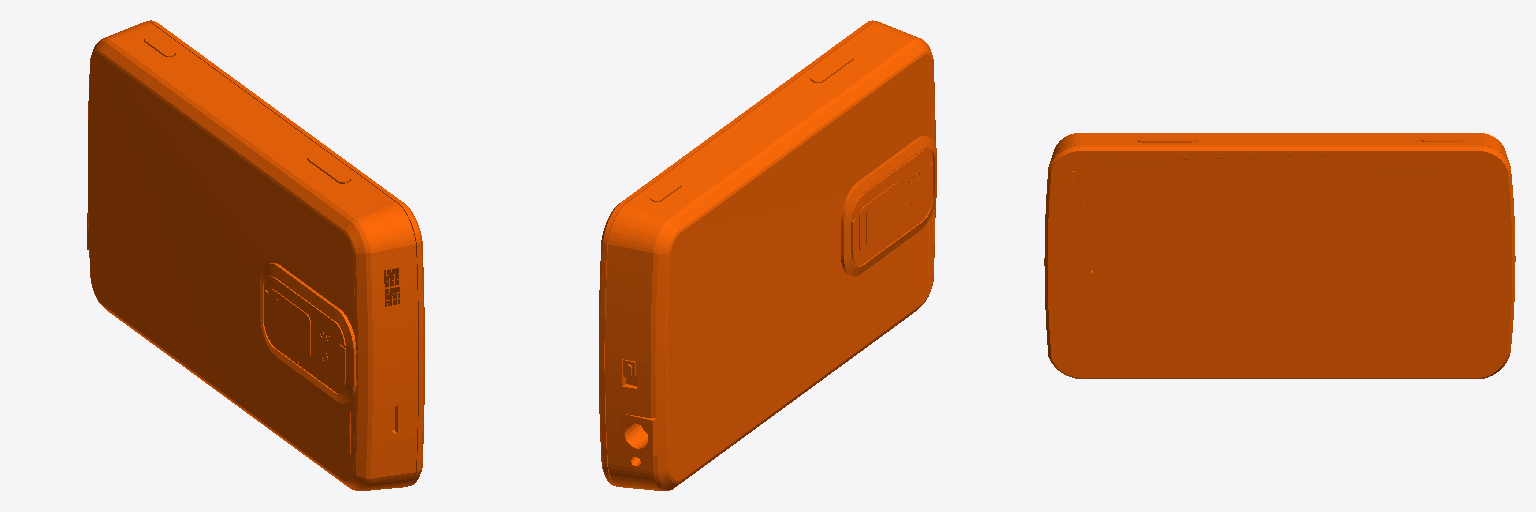
URDF robot description (CellPhone_4c992058eca403d9980a39e0273687b1):
<?xml version="1.0" ?>
<robot name="CellPhone_4c992058eca403d9980a39e0273687b1">
   <material name="obj_color">
      <color rgba="1.0 0.423529411765 0.0392156862745 1.0"/>
   </material>
   <link name="top">
      <inertial>
         <origin rpy="0.0006629651445983659 0.002201299569689325 0.002789789183558277" xyz="0.0009425077526137974 0.003413125218872615 -0.0005566847323891602"/>
         <mass value="0.6143887495059365"/>
         <inertia ixx="0.002789777091049942" ixy="-5.040410887413152e-06" ixz="-2.913721943669617e-07" iyy="0.0006629779942535278" iyz="1.180079158343633e-06" izz="0.002201298812542498"/>
      </inertial>
      <visual>
         <origin rpy="0 0 0" xyz="0 0 0"/>
         <geometry>
            <mesh filename="top_watertight_tiny.stl" scale="1 1 1"/>
         </geometry>
         <material name="obj_color"/>
      </visual>
      <collision>
         <origin rpy="0 0 0" xyz="0 0 0"/>
         <geometry>
            <mesh filename="top_watertight_tiny.obj" scale="1 1 1"/>
         </geometry>
      </collision>
   </link>
   <link name="bottom">
      <inertial>
         <origin rpy="1.633333333199431e-08 1.633333333199431e-08 1.633333333362855e-08" xyz="0.3464080000000008 0.3464080000000008 0.3464080000000008"/>
         <mass value="0.0009800000000000017"/>
         <inertia ixx="1.633333333253906e-08" ixy="5.447480642029219e-19" ixz="5.447480642029219e-19" iyy="1.633333333253906e-08" iyz="5.447480642029219e-19" izz="1.633333333253906e-08"/>
      </inertial>
      <visual>
         <origin rpy="0 0 0" xyz="0 0 0"/>
         <geometry>
            <mesh filename="bottom_watertight_tiny.stl" scale="1 1 1"/>
         </geometry>
         <material name="obj_color"/>
      </visual>
   </link>
   <link name="world"/>
   <joint name="world_to_base" type="fixed">
      <origin xyz="0 0 0"/>
      <axis xyz="0 0 0"/>
      <parent link="world"/>
      <child link="bottom"/>
   </joint>
   <joint name="rotation" type="revolute">
      <origin xyz="0 0 0"/>
      <axis xyz="0 0 -1"/>
      <parent link="bottom"/>
      <child link="top"/>
      <dynamics damping="1.0" friction="1.0"/>
      <limit effort="0.1" velocity="0.1" lower="0" upper="0.001"/>
   </joint>
</robot>

--- Render facts (derived) ---
The picture shows the robot from 3 angles, left to right: view 1: azimuth 30°, elevation 25°; view 2: azimuth 150°, elevation 25°; view 3: azimuth 270°, elevation 25°; orthographic projection.
Robot: CellPhone_4c992058eca403d9980a39e0273687b1 — 3 links, 2 joints (1 revolute, 1 fixed); root link world; default pose: all joints at 0.
Links seen in each view (by area): view 1: top; view 2: top; view 3: top.
Boxes of the visible links, x1,y1,x2,y2 form: top: [87, 20, 424, 490]; top: [599, 20, 936, 490]; top: [1044, 133, 1515, 378].
Bounding box of the posed robot: 0.0287 × 0.2121 × 0.1154 m (x, y, z).
Meshes: 2 distinct files referenced, 1 mesh visuals loaded (1 binary STL); not drawn: 1 (reference not matched to a file when rendering).
